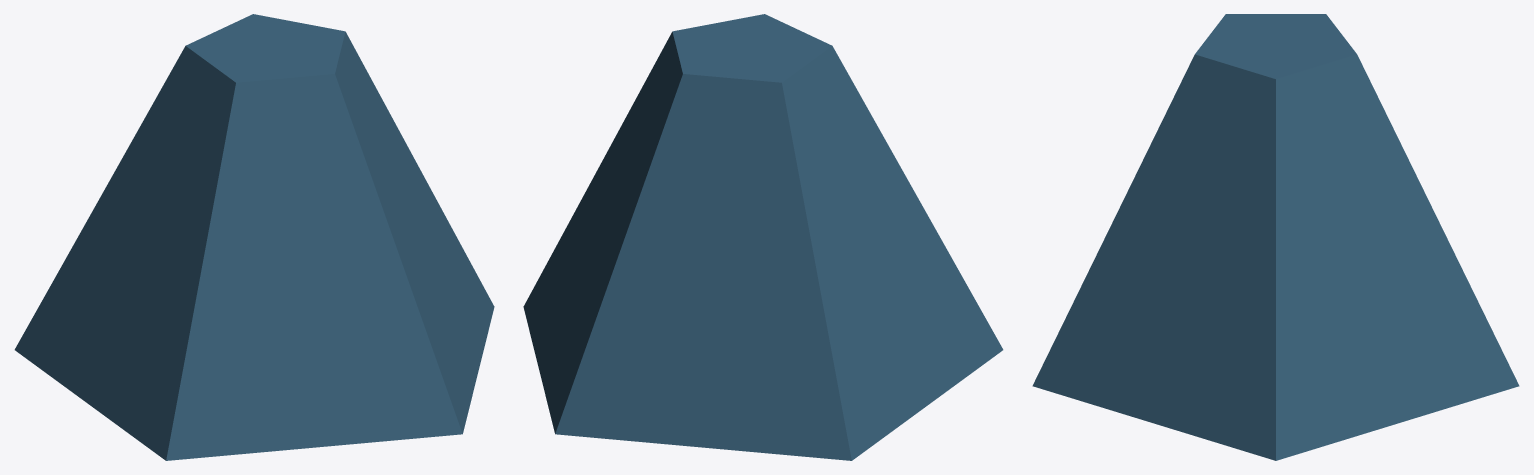
Rendered from Kit_FrostboundGlacier_Rock_LOD1.glb.
The picture shows the model from 3 angles, left to right: view 1: azimuth 30°, elevation 25°; view 2: azimuth 150°, elevation 25°; view 3: azimuth 270°, elevation 25°; orthographic projection.
Visible parts, largest first — view 1: Kit_FrostboundGlacier_Rock_LOD1_FrostboundGlacier_dark_-1_0; view 2: Kit_FrostboundGlacier_Rock_LOD1_FrostboundGlacier_dark_-1_0; view 3: Kit_FrostboundGlacier_Rock_LOD1_FrostboundGlacier_dark_-1_0.
Boxes of the visible parts, left/top/right/bottom form: Kit_FrostboundGlacier_Rock_LOD1_FrostboundGlacier_dark_-1_0: left=14, top=14, right=494, bottom=460; Kit_FrostboundGlacier_Rock_LOD1_FrostboundGlacier_dark_-1_0: left=523, top=14, right=1003, bottom=460; Kit_FrostboundGlacier_Rock_LOD1_FrostboundGlacier_dark_-1_0: left=1032, top=14, right=1519, bottom=460.
Bounding box in the file's own units: 8.14 × 6 × 8.56.
